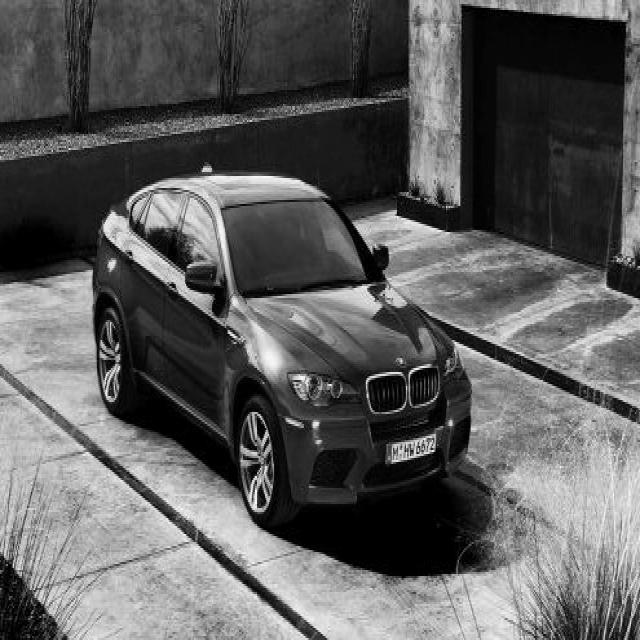car: (90, 160, 472, 530)
plat_license: (384, 432, 437, 466)
